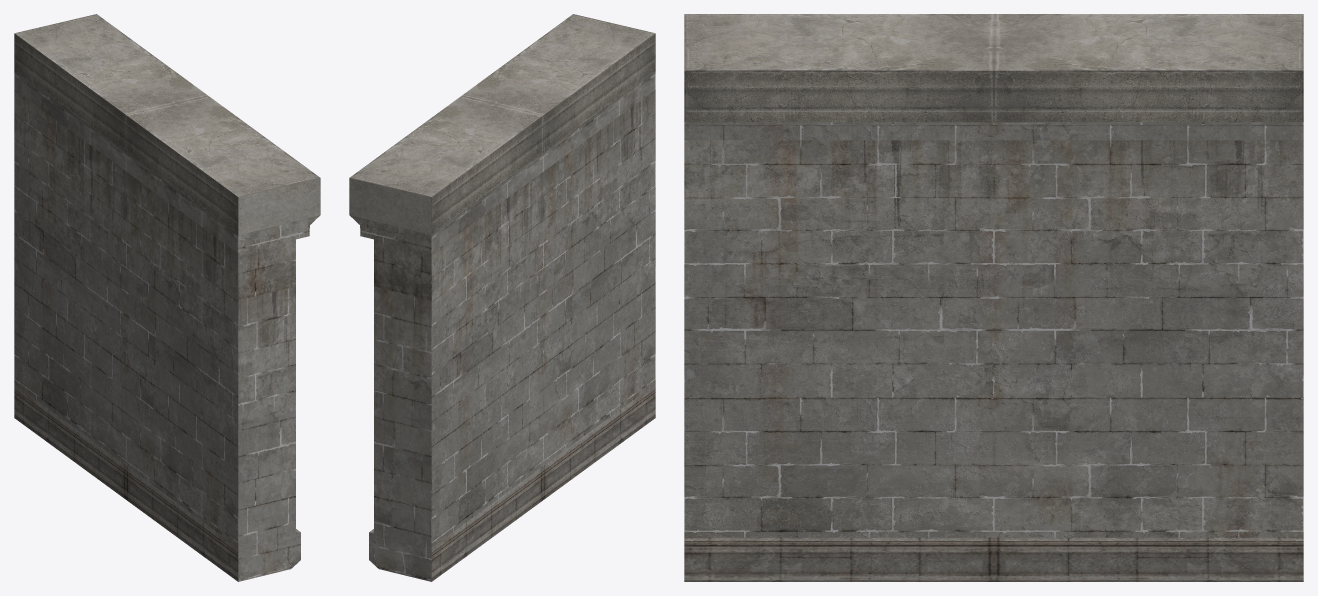
The model's file is bg_lut_lucastle_librarywall01a_sm_ysi.FBX.
The picture shows the model from 3 angles, left to right: view 1: azimuth 30°, elevation 25°; view 2: azimuth 150°, elevation 25°; view 3: azimuth 270°, elevation 25°; orthographic projection. The views are drawn at different scales.
Parts seen in each view (by area): view 1: bg_lut_lucastle_librarywall01a_sm_ysi; view 2: bg_lut_lucastle_librarywall01a_sm_ysi; view 3: bg_lut_lucastle_librarywall01a_sm_ysi.
Part boxes in pixels (<box>): bg_lut_lucastle_librarywall01a_sm_ysi: <box>14,14,320,581</box>; bg_lut_lucastle_librarywall01a_sm_ysi: <box>349,14,655,581</box>; bg_lut_lucastle_librarywall01a_sm_ysi: <box>684,14,1303,581</box>.
Bounding box in the file's own units: 81.51 × 364 × 384.
